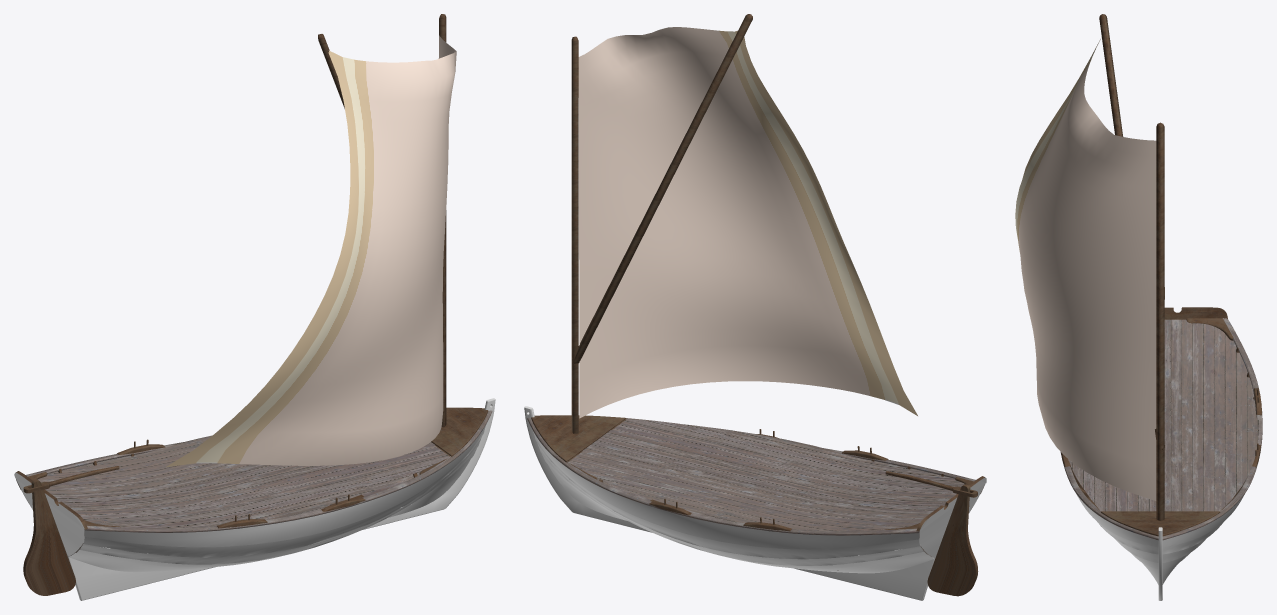
Rendered from NewportShoreBoat.fbx.
3 renders of one model, left to right at view 1: azimuth 30°, elevation 25°; view 2: azimuth 150°, elevation 25°; view 3: azimuth 270°, elevation 25°, orthographic. The views are drawn at different scales.
Visible parts, largest first — view 1: Sail, Hull, Cover, HullRear, Pole1; view 2: Sail, Cover, Hull, HullRear, Pole2, Pole1; view 3: Sail, Cover, Hull, Pole1, Pole2.
Boxes of the visible parts, x1,y1,x2,y2 form: Sail: (165, 35, 456, 467); Hull: (14, 398, 495, 600); Cover: (37, 435, 449, 527); HullRear: (23, 466, 119, 595); Pole1: (439, 14, 446, 427); Sail: (578, 27, 917, 418); Cover: (568, 419, 964, 530); Hull: (524, 406, 986, 600); HullRear: (885, 471, 978, 596); Pole2: (572, 14, 752, 364); Pole1: (571, 36, 578, 433); Sail: (1015, 39, 1156, 500); Cover: (1068, 319, 1258, 511); Hull: (1060, 307, 1262, 600); Pole1: (1156, 122, 1164, 520); Pole2: (1099, 14, 1164, 449).
Bounding box in the file's own units: 387 × 422 × 183.
Materials: 4 (3 with a texture image).
